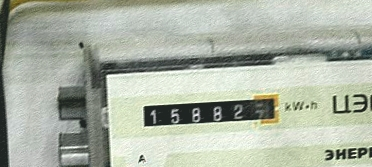1: (148, 108, 158, 125)
2: (232, 103, 242, 120)
5: (169, 107, 180, 124)
7: (254, 108, 263, 120)
8: (190, 107, 201, 124), (211, 105, 222, 122)
screen: (135, 89, 285, 137)
